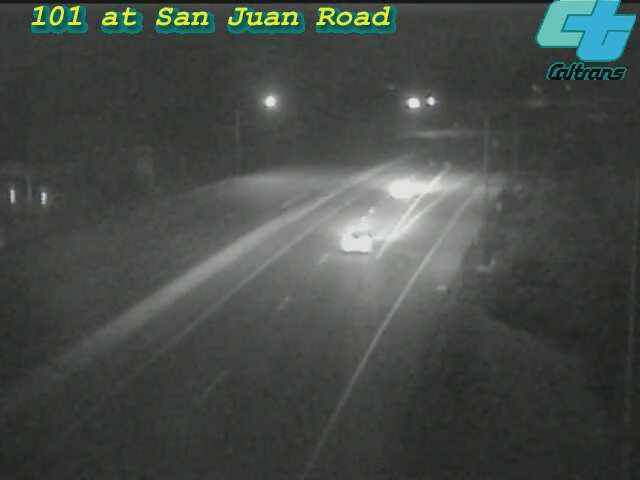vehicle: (365, 147, 445, 227), (316, 201, 396, 281)
